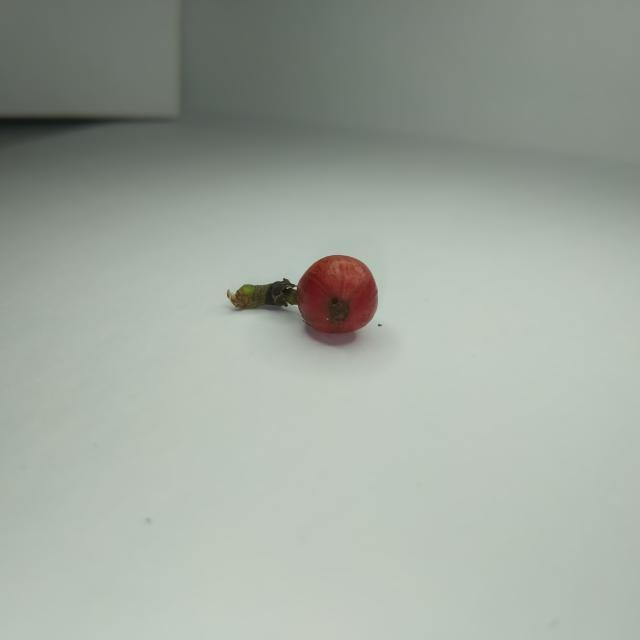Infectado: (296, 255, 377, 335)
